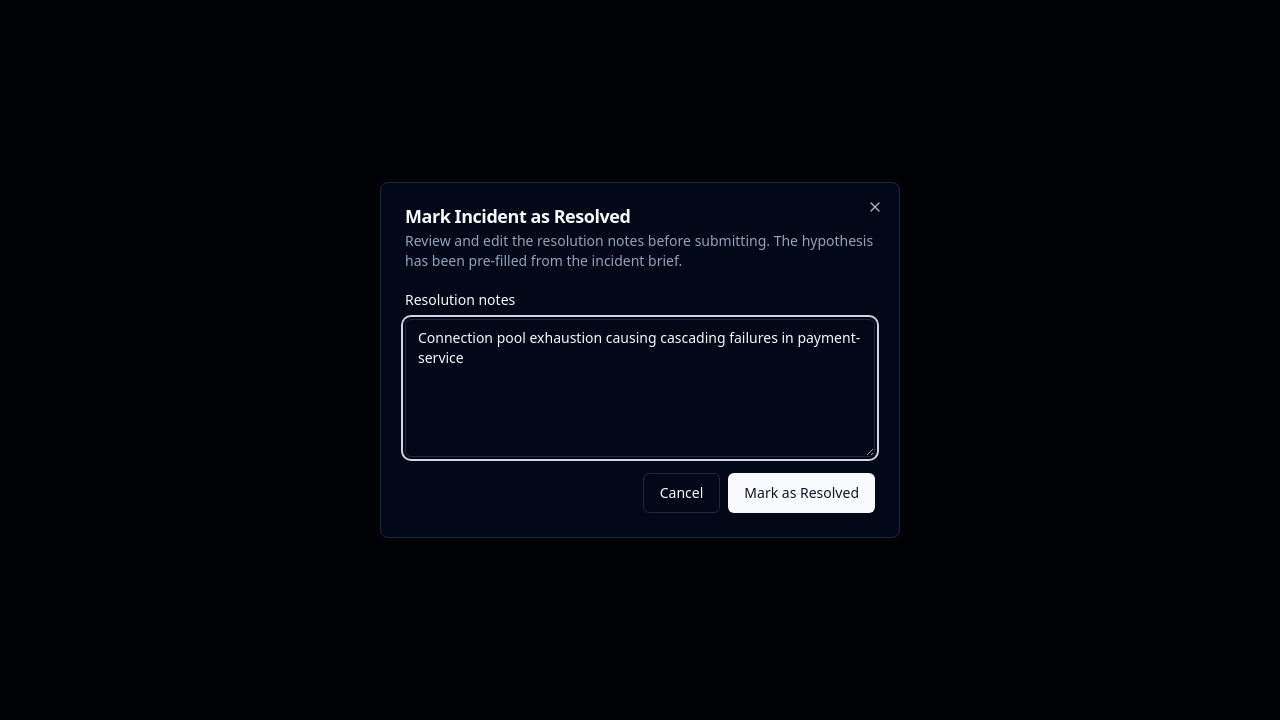
Scenario: ResolveModal › shows error message on API failure
Step 1. Click the button "Mark as Resolved" → click(802, 493), box top-left (728, 473), bottom-right (875, 513)
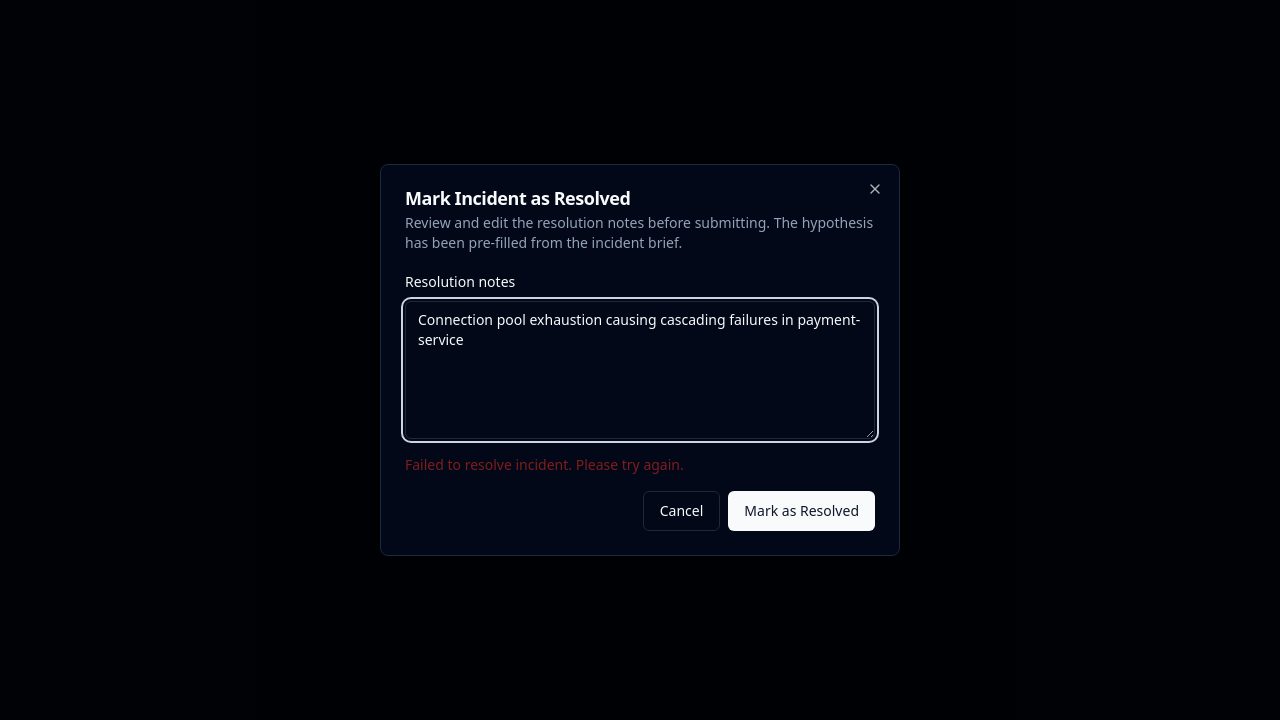
Expected: the text "Failed to resolve incident. Please try again." is shown, top-left (405, 455), bottom-right (684, 474)
